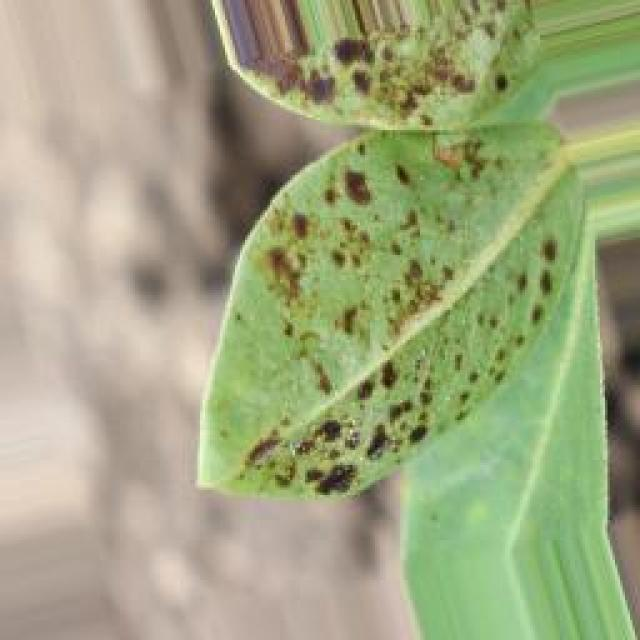Whitefly: (145, 40, 581, 512)
